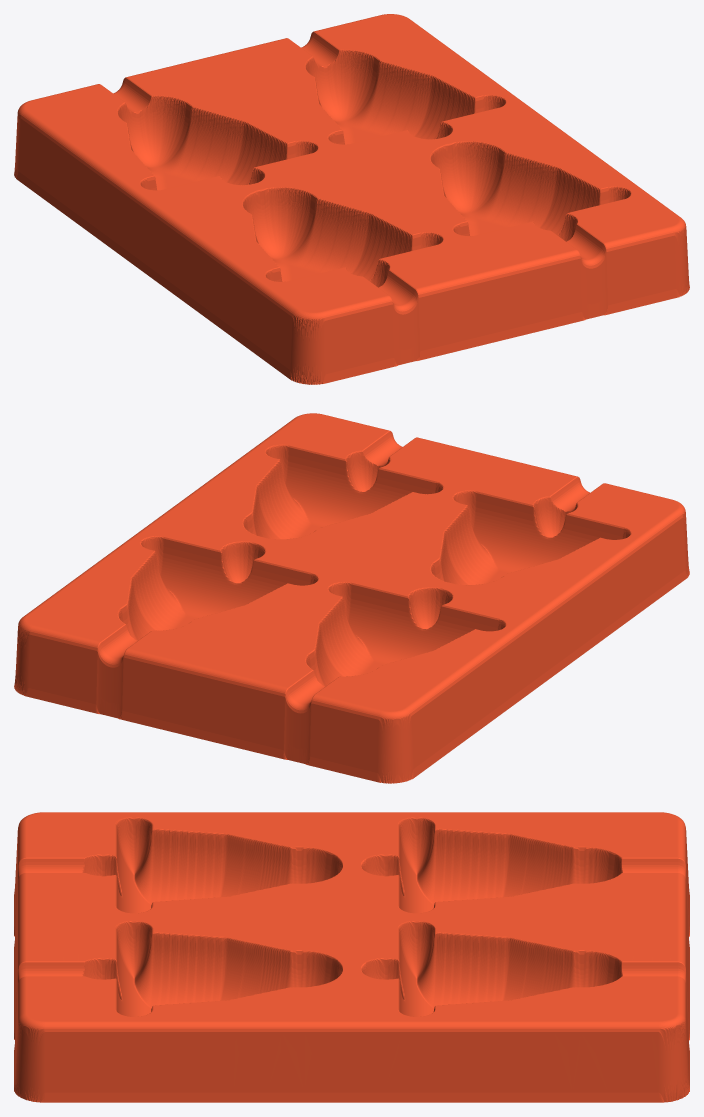
File: mold.glb
3 views of the same model, one above another, from view 1: azimuth 30°, elevation 25°; view 2: azimuth 150°, elevation 25°; view 3: azimuth 270°, elevation 25° (orthographic). The views are drawn at different scales.
Visible parts, largest first — view 1: geometry_0; view 2: geometry_0; view 3: geometry_0.
Boxes of the visible parts, x1,y1,x2,y2 form: geometry_0: [14, 14, 689, 384]; geometry_0: [14, 413, 689, 783]; geometry_0: [14, 812, 689, 1102].
Bounding box in the file's own units: 0.1508 × 0.0245 × 0.1968.
